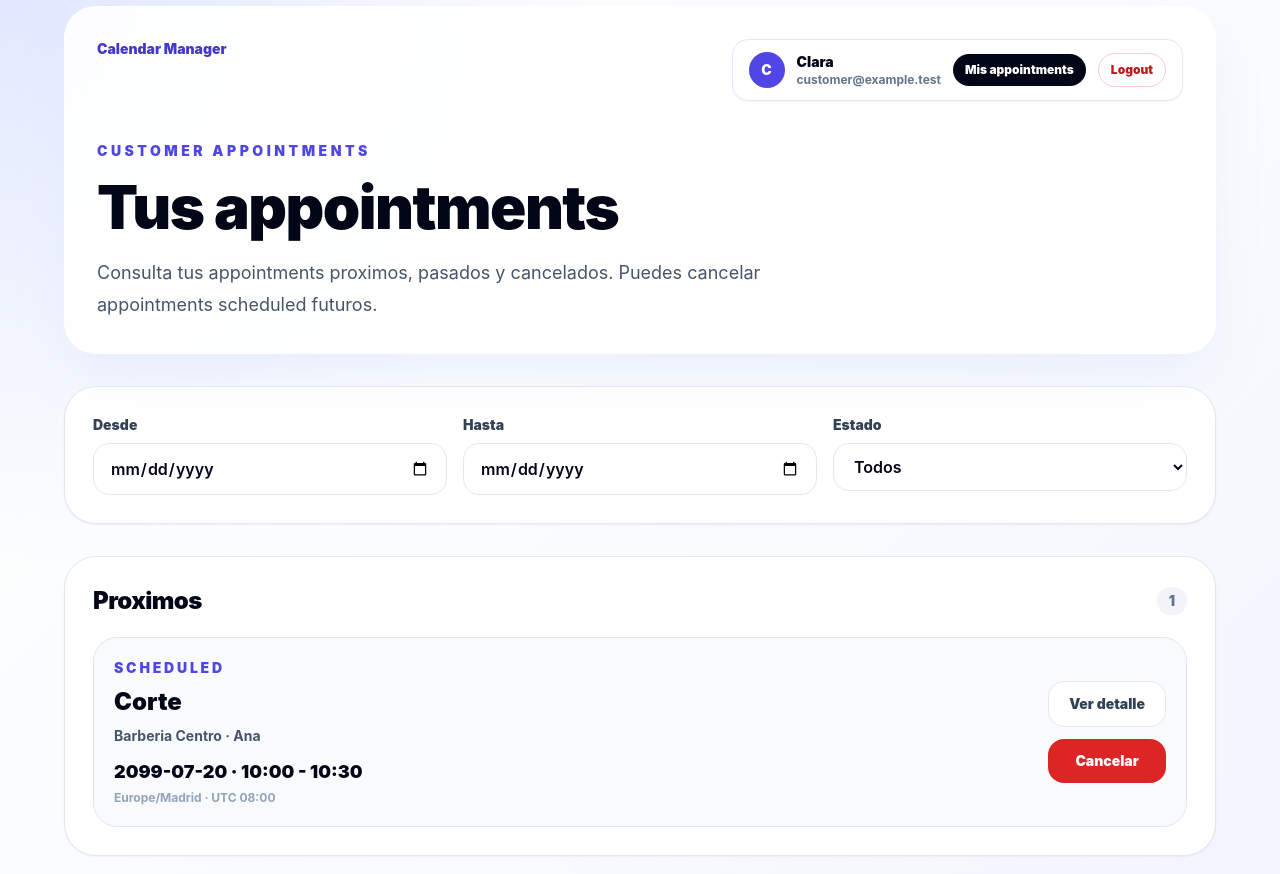
Scenario: customer appointments page › cancels an appointment and refreshes the list
The width and height of the screenshot is (1280, 874).
Click the button "Cancelar" at (1107, 761), box 1048,739 -> 1166,783
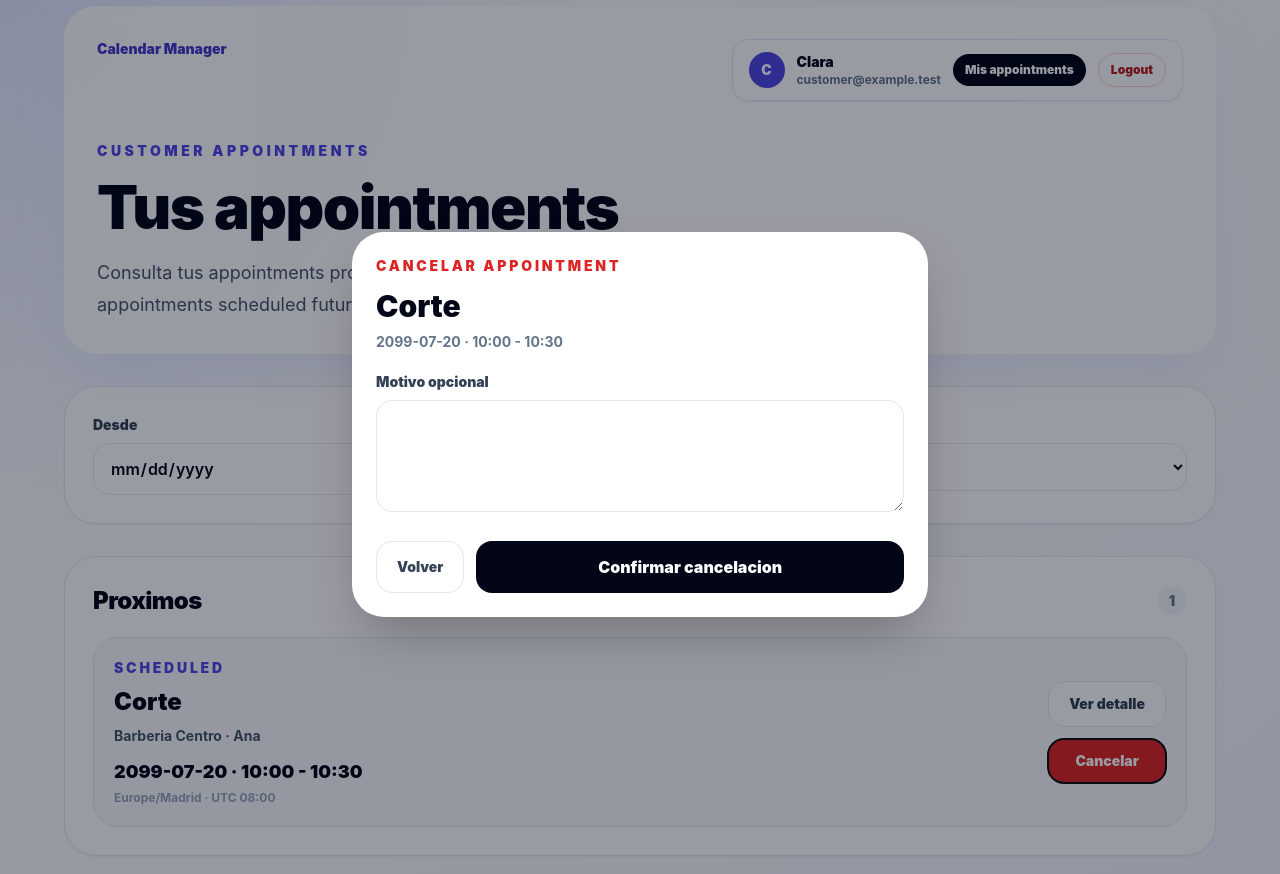
Type "No puedo ir" into the text box labelled "Motivo opcional" at (640, 456), box 376,400 -> 904,512
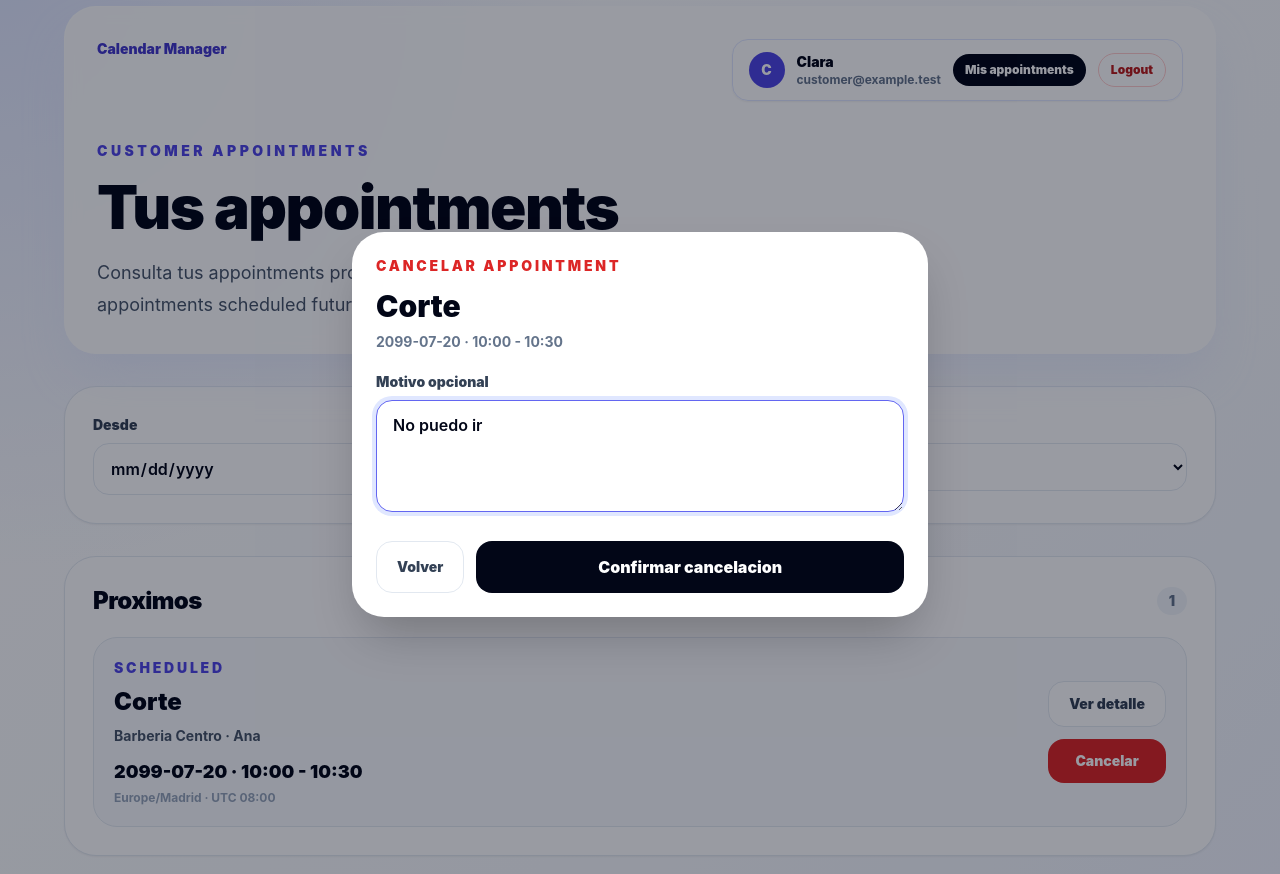
Click the button "Confirmar cancelacion" at (690, 566), box 476,540 -> 904,592
(page scrolled)
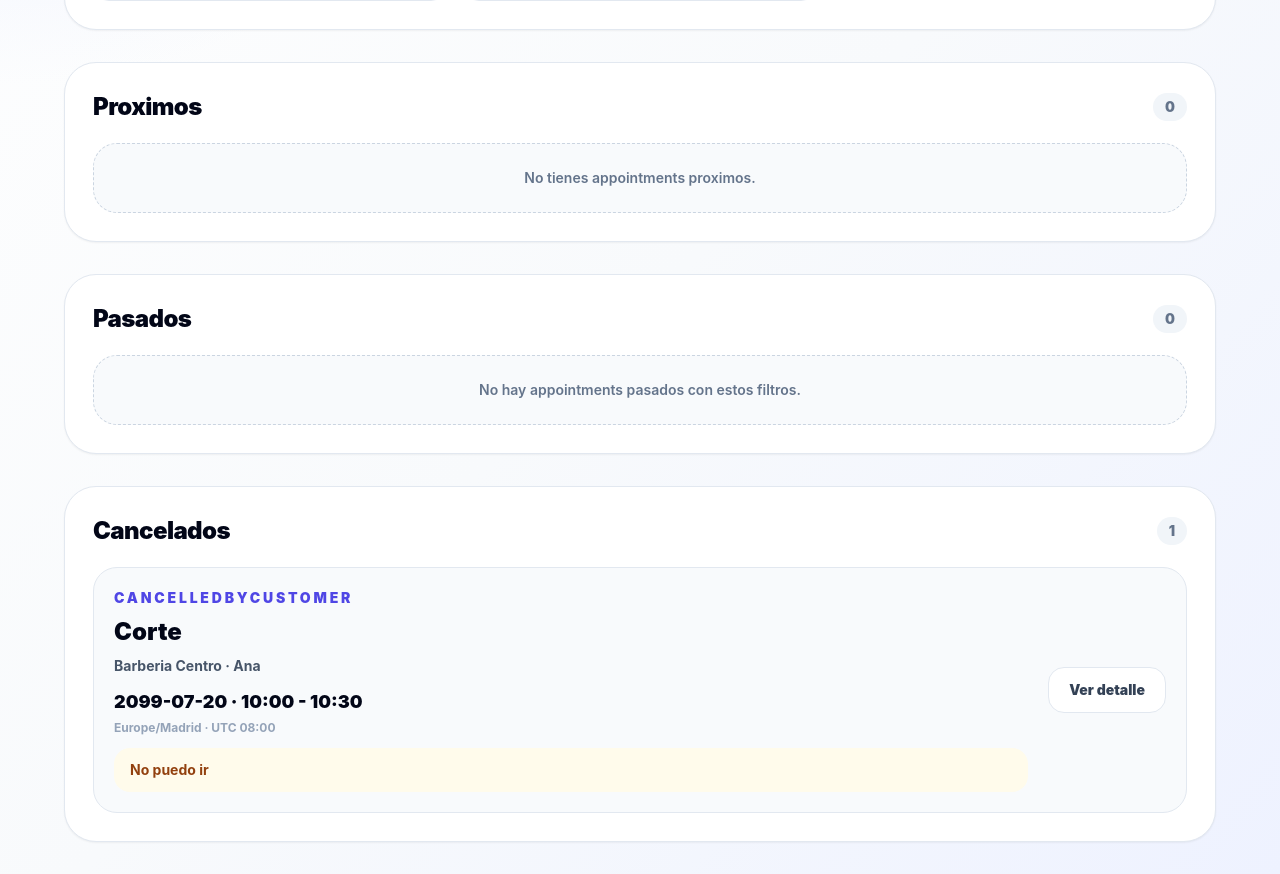
Expected: the text "CancelledByCustomer" is shown, 114,589 -> 353,606
Expected: the text "No puedo ir" is shown, 114,748 -> 1028,792
